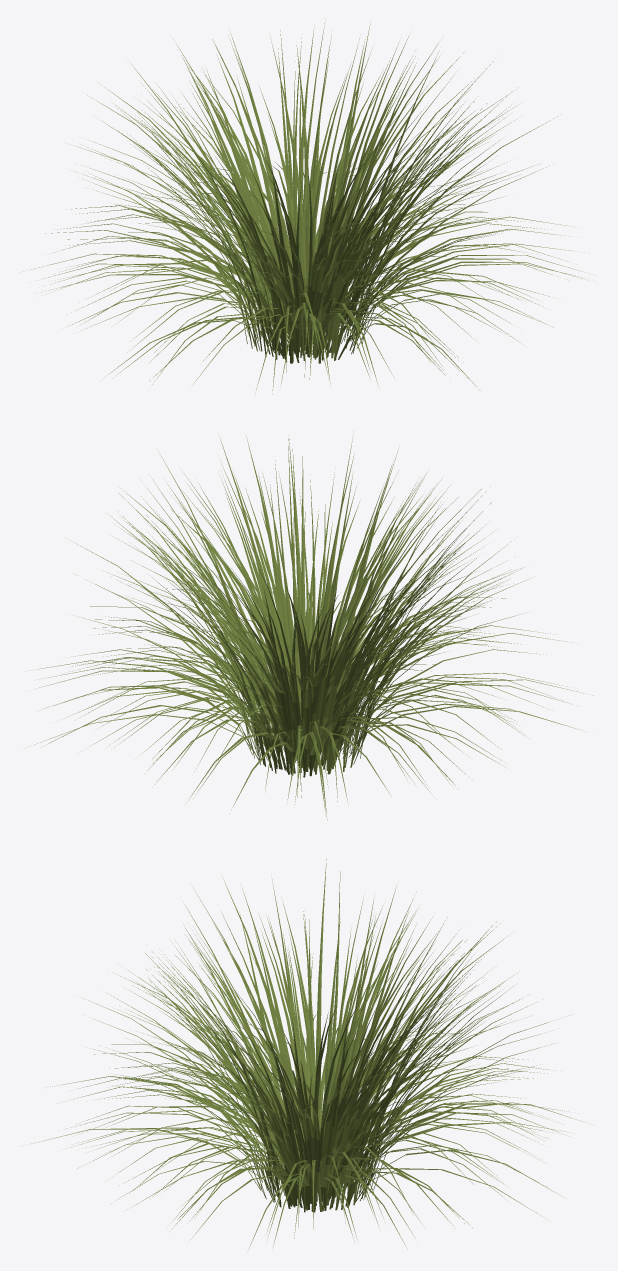
The model's file is obj_paja.fbx.
3 views of the same model, one above another, from view 1: azimuth 30°, elevation 25°; view 2: azimuth 150°, elevation 25°; view 3: azimuth 270°, elevation 25° (orthographic). The views are drawn at different scales.
Visible parts, largest first — view 1: SM_Paja_Movil; view 2: SM_Paja_Movil; view 3: SM_Paja_Movil.
Part boxes in pixels (x1,y1,x2,y2): SM_Paja_Movil: (31,19,584,394); SM_Paja_Movil: (34,435,592,819); SM_Paja_Movil: (31,858,582,1249).
Size of the model in its own units: 0.8589 by 0.4177 by 0.8902.
